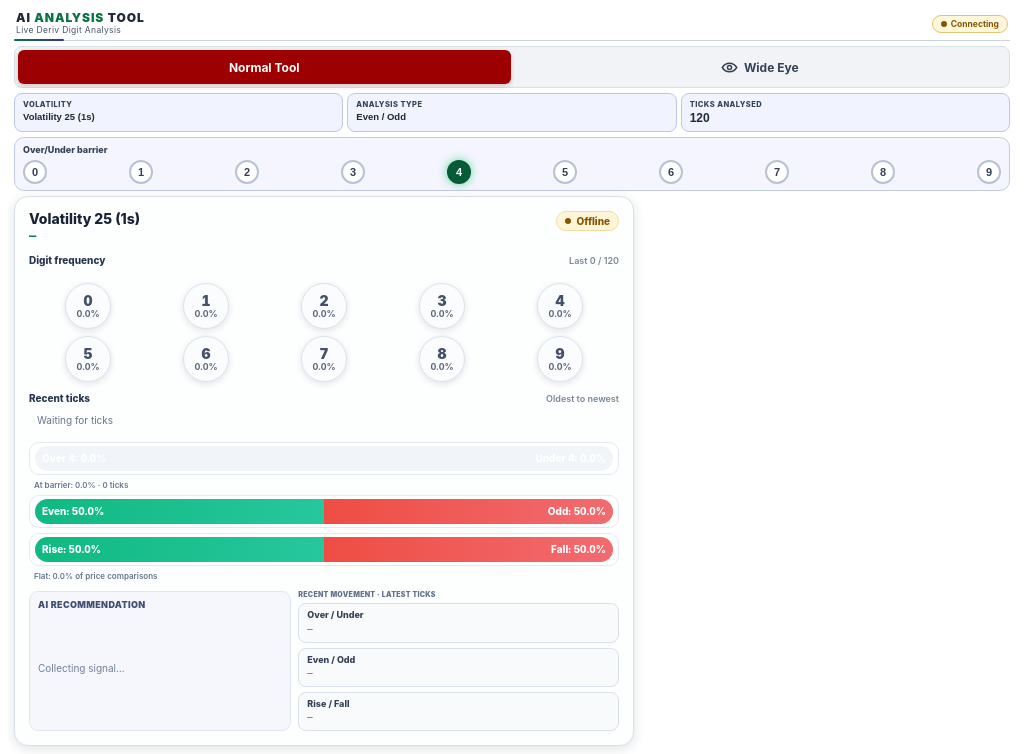
Test case: AI Analysis site-session lifecycle › loads every continuous and jump index in Wide Eye through the site connection
Click the button with test id "button-wide-eye" at (760, 67), box [514,50,1006,84]
(page scrolled)
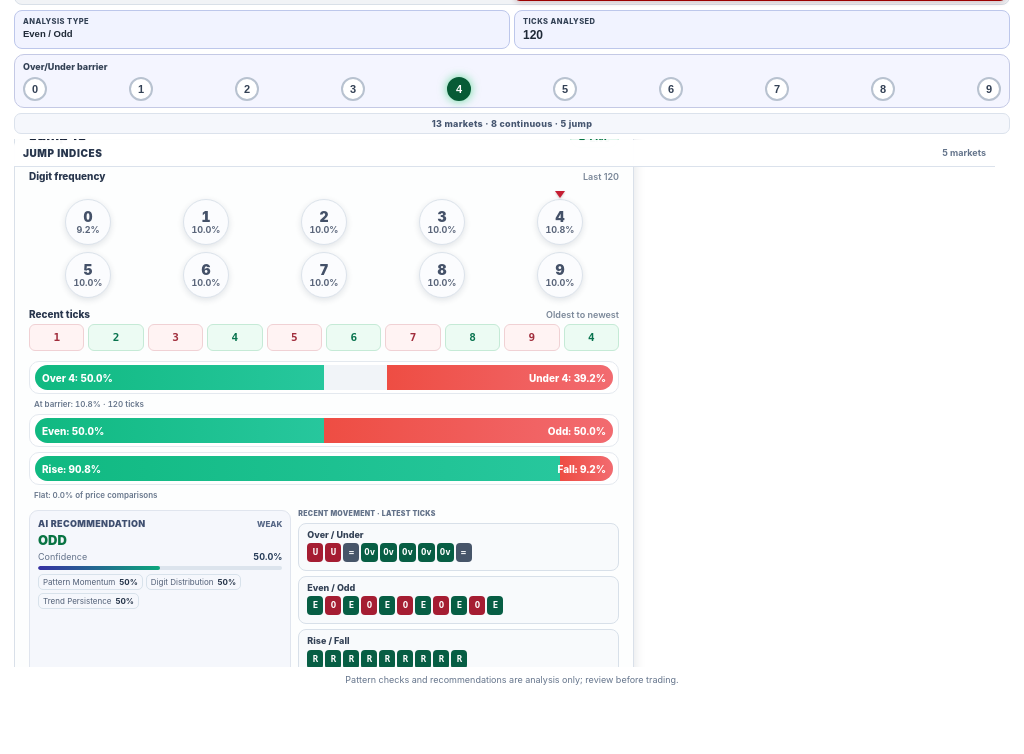
Now the text with test id "text-wide-eye-market-summary" reads "13 markets · 8 continuous · 5 jump", box [14,113,1010,134]
Now the element with test id "section-wide-eye-jump" shows "Jump Indices", box [23,146,102,158]
Now the element with test id "card-market-jump-10" shows "200.04", box [29,145,72,159]
